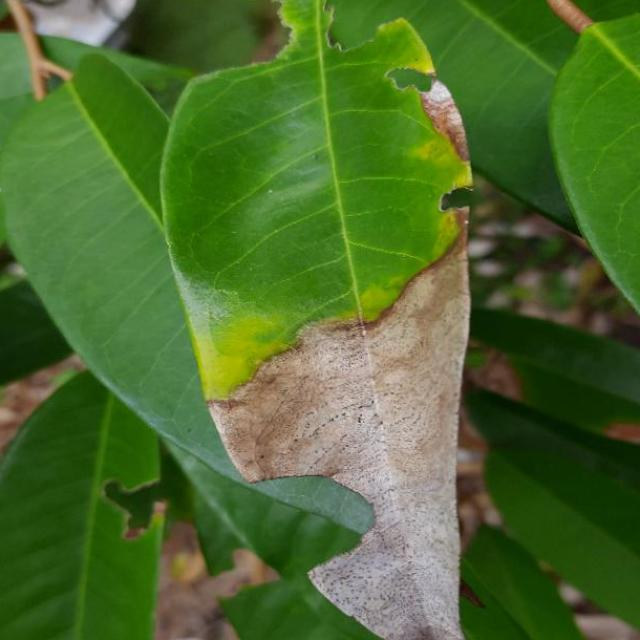Leaf Blight: (145, 0, 488, 640)
